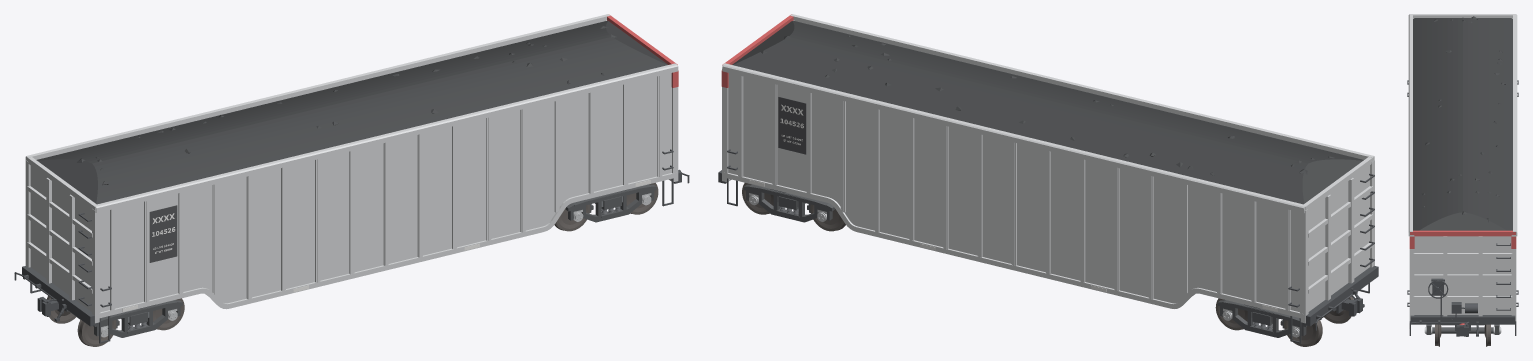
Rendered from rail-gondola-coal.glb.
3 views of the same model, side by side, from view 1: azimuth 30°, elevation 25°; view 2: azimuth 150°, elevation 25°; view 3: azimuth 270°, elevation 25° (orthographic). The views are drawn at different scales.
Visible parts, largest first — view 1: side_sheets, coal_load, truck_B_side_frames, underframe, truck_B_wheels, mark_panels, rotary_end_chord, reporting_marks; view 2: side_sheets, coal_load, truck_B_side_frames, underframe, truck_B_wheels, mark_panels, rotary_end_chord, reporting_marks; view 3: coal_load, side_sheets, underframe, rotary_end_chord, truck_B_side_frames, truck_B_wheels.
Boxes of the visible parts, x1,y1,x2,y2 form: side_sheets: [25, 14, 678, 323]; coal_load: [36, 21, 667, 204]; truck_B_side_frames: [69, 184, 656, 337]; underframe: [14, 149, 689, 343]; truck_B_wheels: [46, 182, 658, 346]; mark_panels: [149, 205, 177, 262]; rotary_end_chord: [607, 14, 678, 87]; reporting_marks: [122, 180, 650, 311]; side_sheets: [722, 14, 1374, 323]; coal_load: [732, 21, 1363, 204]; truck_B_side_frames: [744, 184, 1331, 337]; underframe: [718, 149, 1378, 343]; truck_B_wheels: [742, 183, 1353, 346]; mark_panels: [778, 97, 806, 154]; rotary_end_chord: [721, 14, 793, 87]; reporting_marks: [749, 104, 1277, 311]; coal_load: [1413, 16, 1512, 230]; side_sheets: [1408, 14, 1517, 321]; underframe: [1407, 80, 1518, 336]; rotary_end_chord: [1409, 230, 1516, 324]; truck_B_side_frames: [1426, 324, 1499, 334]; truck_B_wheels: [1435, 324, 1490, 346].
Bounding box in the file's own units: 16.18 × 4.23 × 3.27.
